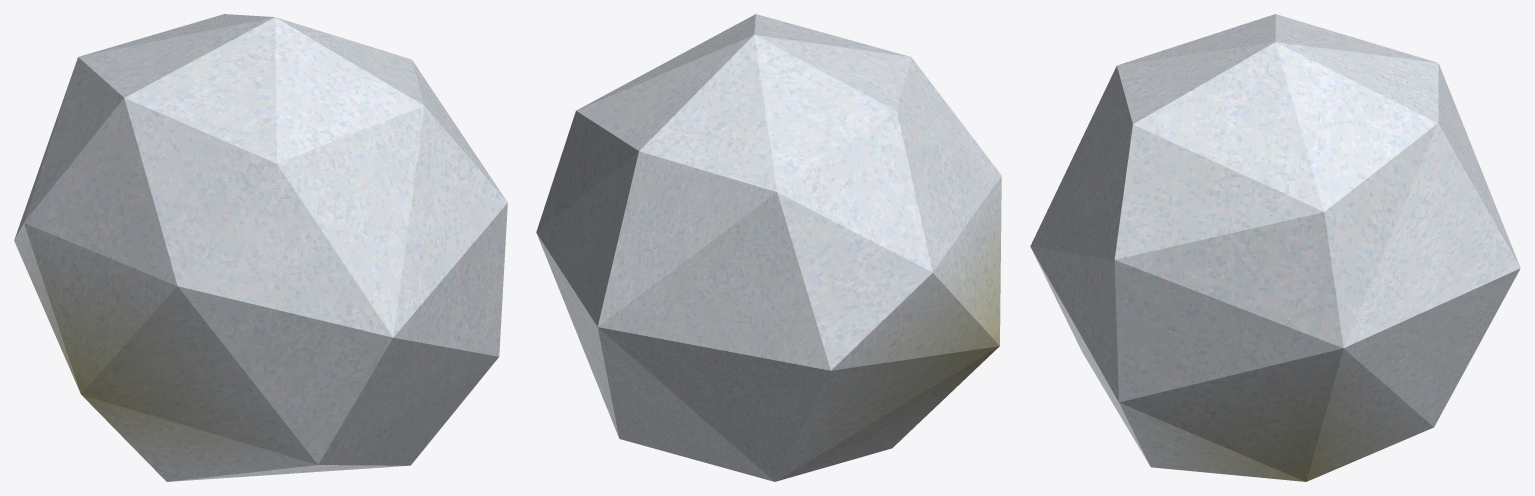
Rendered from snow_course-rock.glb.
The picture shows the model from 3 angles, left to right: view 1: azimuth 30°, elevation 25°; view 2: azimuth 150°, elevation 25°; view 3: azimuth 270°, elevation 25°; orthographic projection. The views are drawn at different scales.
Visible parts, largest first — view 1: rock; view 2: rock; view 3: rock.
Part boxes in pixels (left/top/right/bottom): rock: left=14, top=14, right=507, bottom=481; rock: left=536, top=14, right=1001, bottom=481; rock: left=1030, top=14, right=1520, bottom=481.
Size of the model in its own units: 3.55 by 3.56 by 3.79.
1 material, 1 textured.
